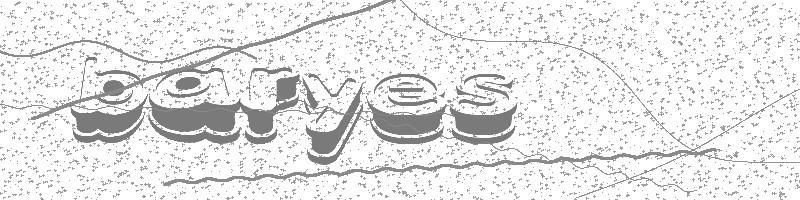a: (149, 66, 240, 147)
b: (69, 55, 148, 144)
e: (365, 73, 445, 145)
r: (240, 67, 301, 145)
s: (449, 72, 518, 145)
y: (301, 70, 364, 165)
